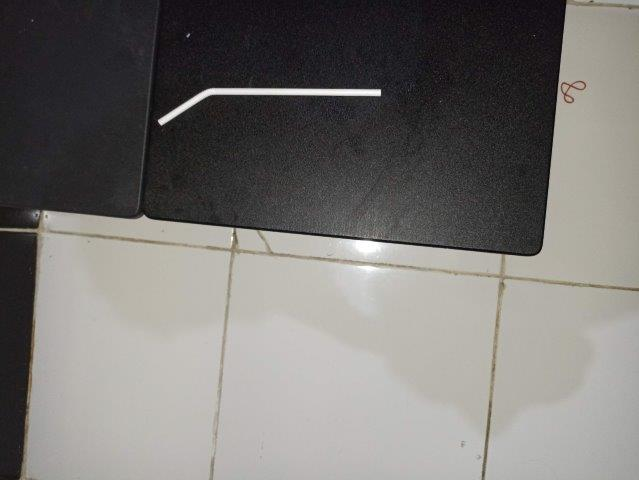karet: (560, 80, 587, 103)
sedotan: (158, 88, 381, 125)
